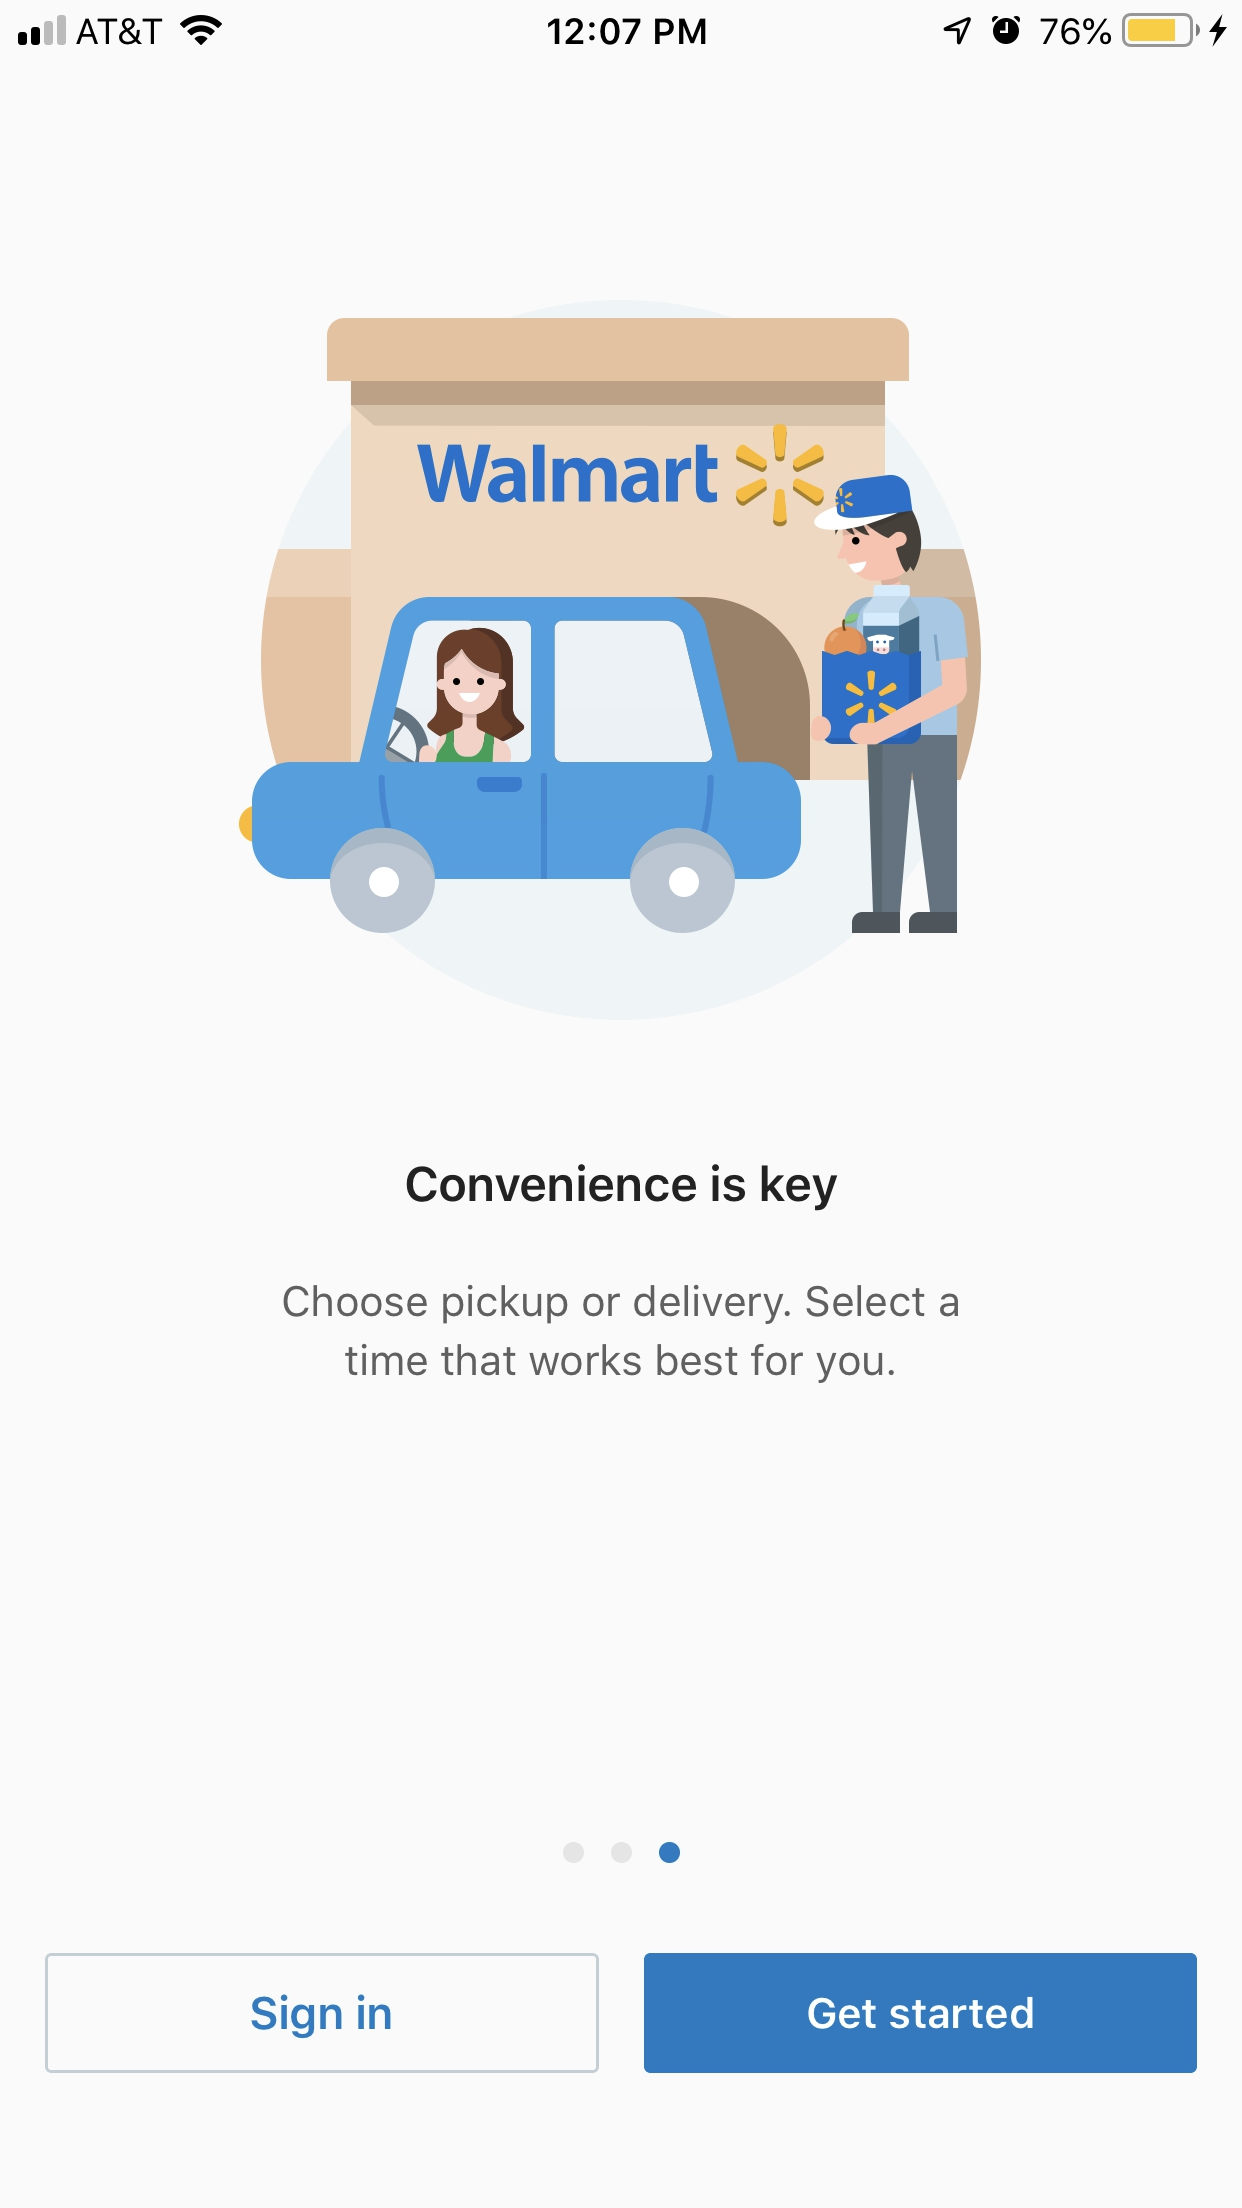Image: (238, 299, 984, 1022)
PageIndicator: (563, 1839, 682, 1864)
Text: (284, 1284, 958, 1385), (406, 1165, 839, 1212)
TextButton: (45, 1952, 601, 2075), (645, 1952, 1198, 2075)
UpperTaskBar: (2, 2, 1242, 49)
